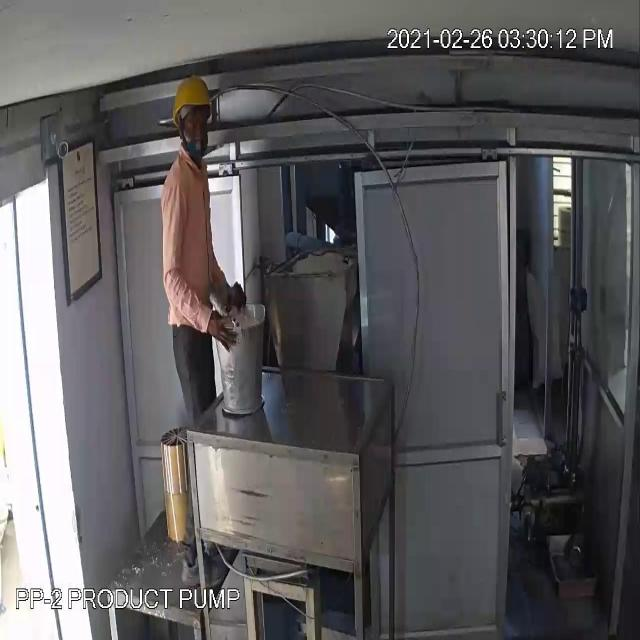helmet: (165, 77, 216, 159)
